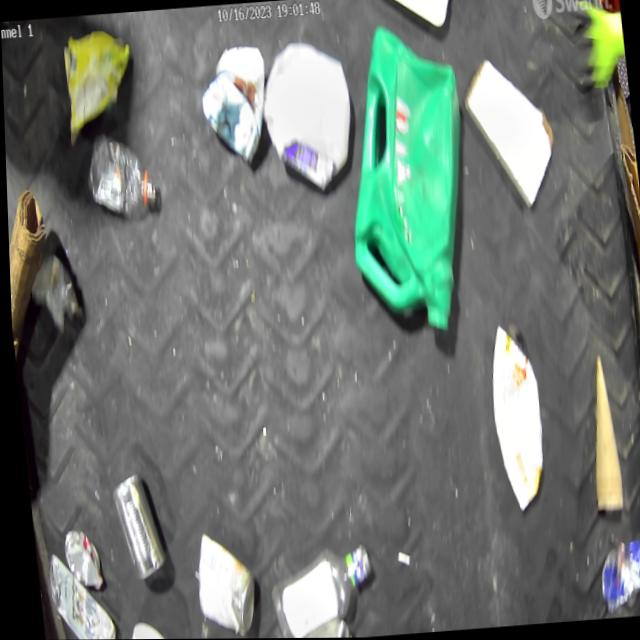can: (188, 530, 254, 636), (108, 471, 164, 584), (591, 535, 640, 608), (59, 531, 100, 590)
milk_jug: (257, 33, 359, 196)
non_white_jug: (331, 21, 483, 340)
plastic_bottle: (261, 541, 372, 639), (82, 126, 159, 223)
